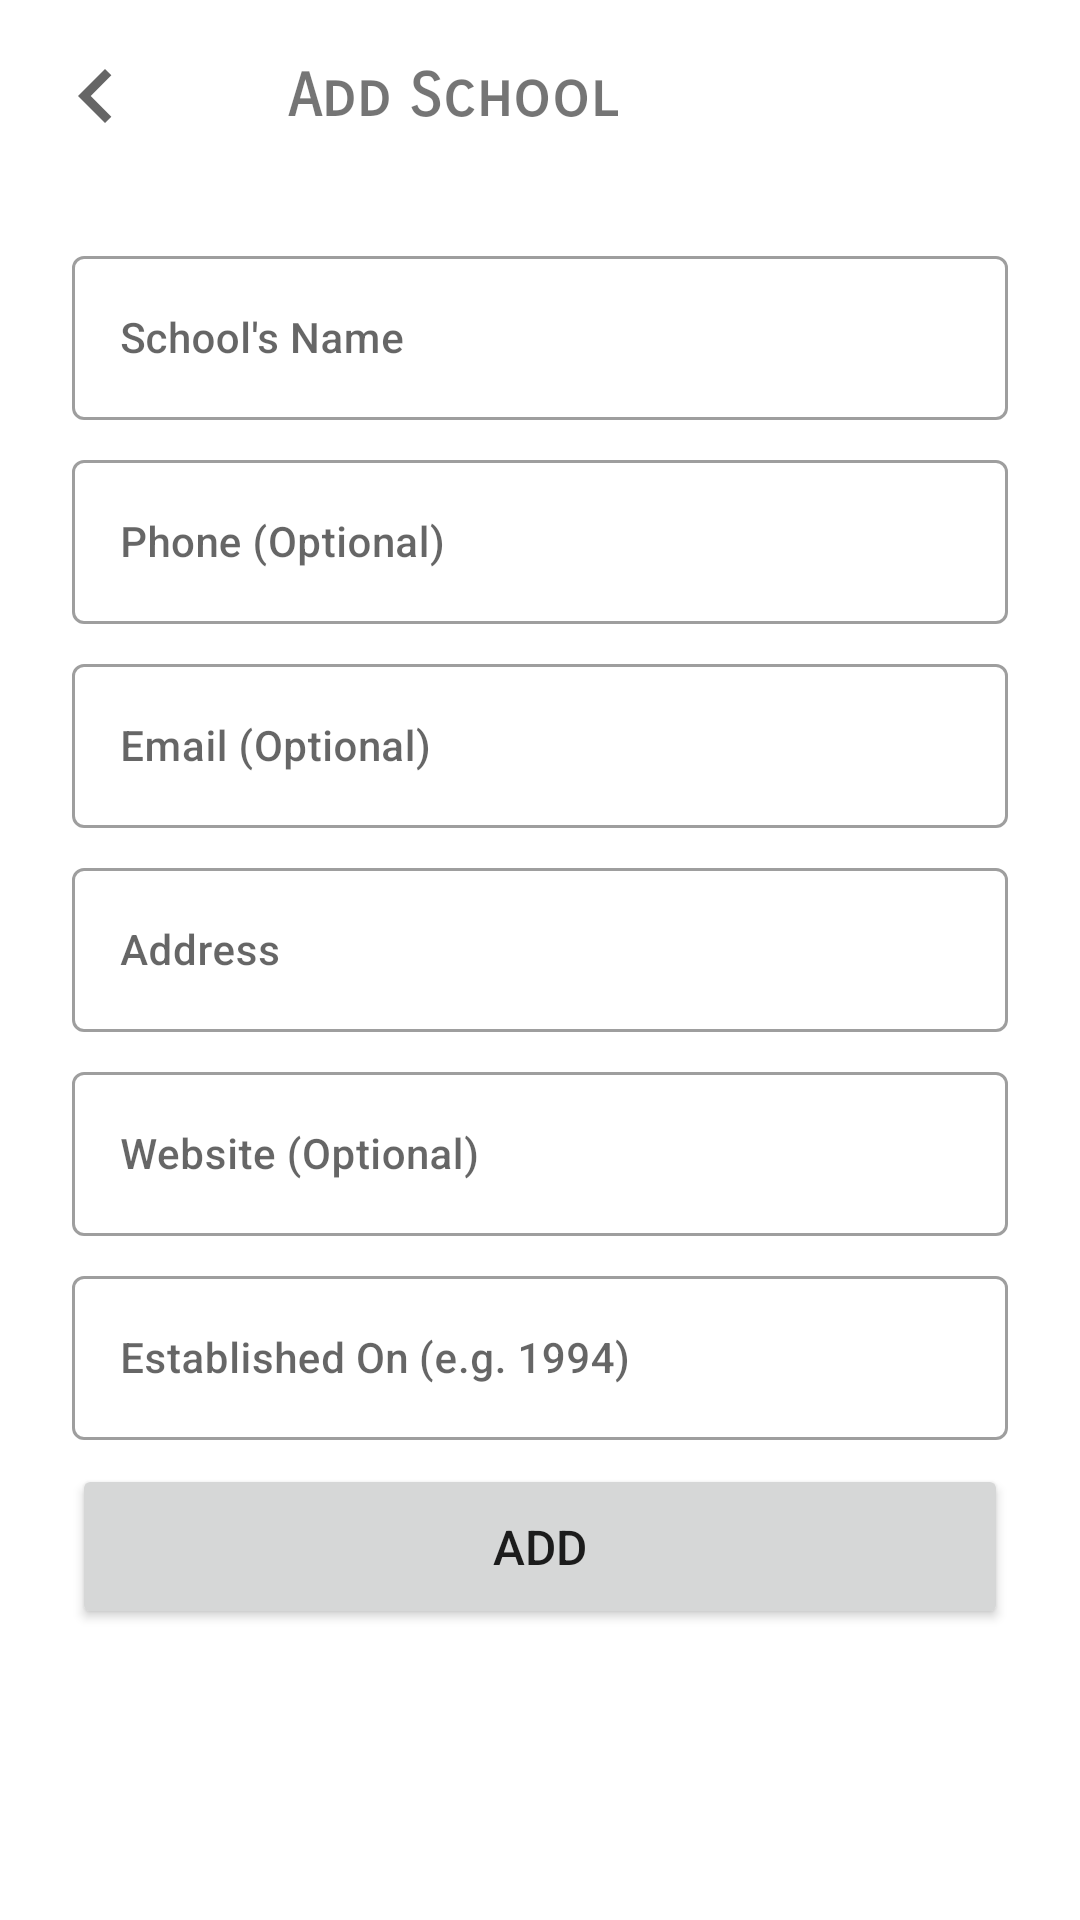

Named icons in this screenshot (1080 × 1920) and their centers, [x,y]:
navigate back: [94,96]
